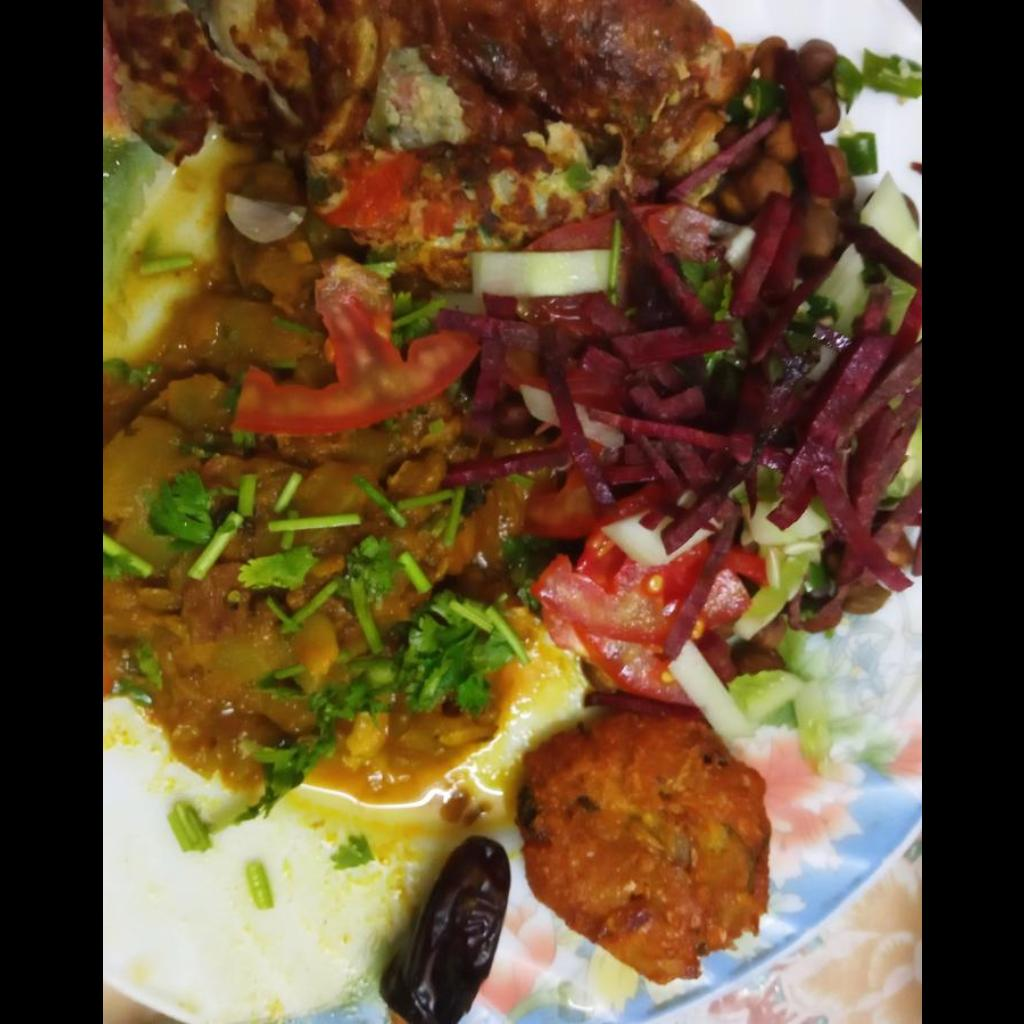chicken: (102, 0, 766, 287)
dates: (378, 836, 509, 1023)
peyaju: (527, 718, 766, 973)
salad: (102, 79, 920, 820)
